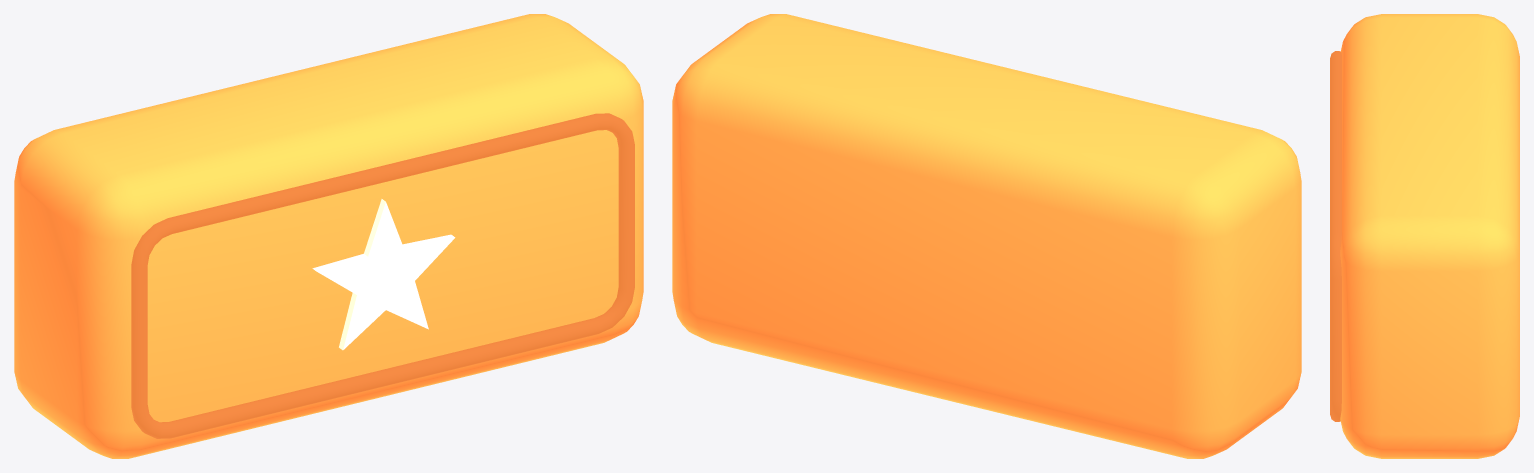
File: brick_carrier_glass.glb
The picture shows the model from 3 angles, left to right: view 1: azimuth 30°, elevation 25°; view 2: azimuth 150°, elevation 25°; view 3: azimuth 270°, elevation 25°; orthographic projection. The views are drawn at different scales.
Visible parts, largest first — view 1: type_carrier_g; view 2: type_carrier_g; view 3: type_carrier_g.
Part boxes in pixels (x1,y1,x2,y2): type_carrier_g: [14, 14, 643, 458]; type_carrier_g: [672, 14, 1301, 458]; type_carrier_g: [1330, 14, 1519, 458].
Bounding box in the file's own units: 0.92 × 0.44 × 0.316.
